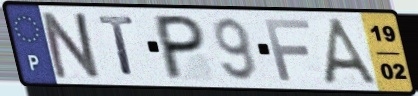9: (211, 16, 260, 83)
A: (320, 16, 384, 88)
F: (262, 18, 314, 84)
N: (39, 10, 106, 82)
P: (154, 12, 207, 82)
T: (95, 14, 138, 79)
